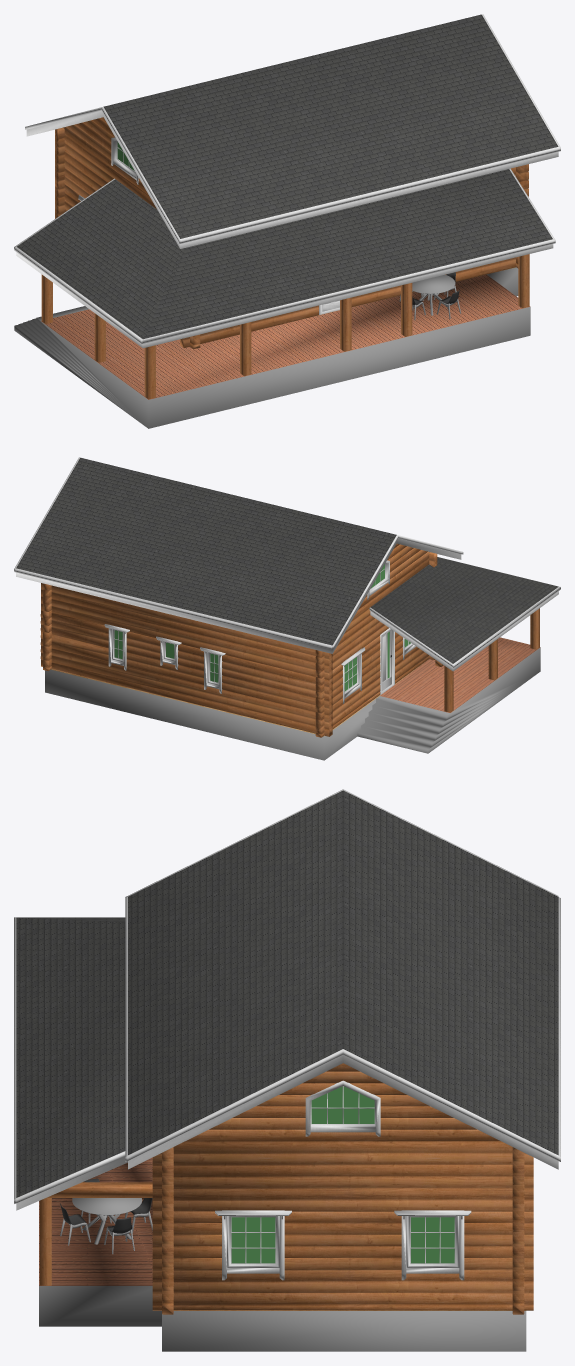
3 renders of one model, top to bottom at view 1: azimuth 30°, elevation 25°; view 2: azimuth 150°, elevation 25°; view 3: azimuth 270°, elevation 25°, orthographic. The views are drawn at different scales.
Parts seen in each view (by area): view 1: Line145, Line162, Line119, table2; view 2: Line145, Line119, Line162, Box210, glass, Plane003; view 3: Line145, Line119, Line162, Box210, glass, table2.
Boxes of the visible parts, left/top/right/bottom form: Line145: left=14, top=14, right=560, bottom=348; Line162: left=14, top=267, right=530, bottom=428; Line119: left=41, top=117, right=529, bottom=399; table2: left=399, top=272, right=460, bottom=320; Line145: left=14, top=457, right=560, bottom=671; Line119: left=40, top=543, right=539, bottom=737; Line162: left=45, top=637, right=540, bottom=760; Box210: left=104, top=560, right=415, bottom=703; glass: left=114, top=564, right=410, bottom=691; Plane003: left=380, top=628, right=394, bottom=694; Line145: left=14, top=789, right=560, bottom=1210; Line119: left=40, top=1063, right=533, bottom=1314; Line162: left=39, top=1157, right=526, bottom=1351; Box210: left=215, top=1080, right=471, bottom=1280; glass: left=231, top=1086, right=454, bottom=1263; table2: left=60, top=1178, right=152, bottom=1254.
Size of the model in its own units: 14908 by 7062 by 10997.
